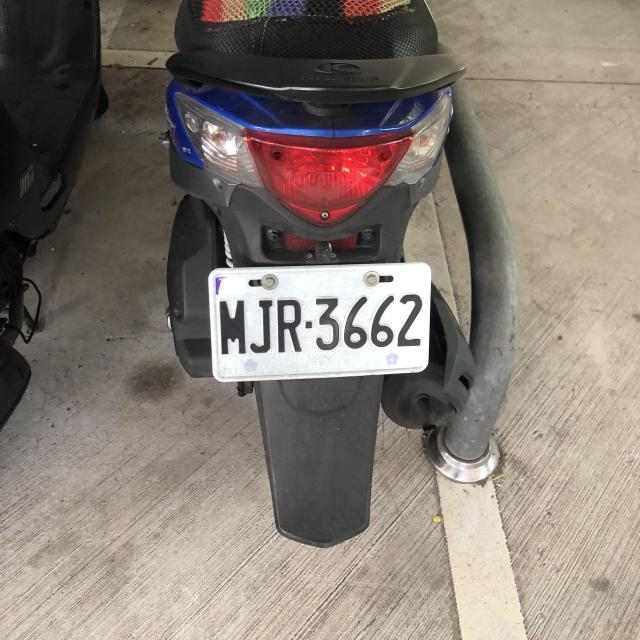W: (206, 259, 430, 380)
